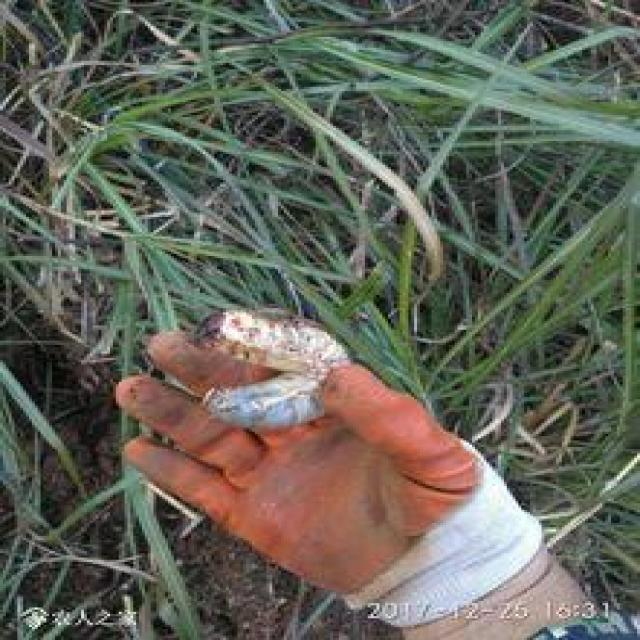Grub-Adult-: (182, 306, 358, 439)
